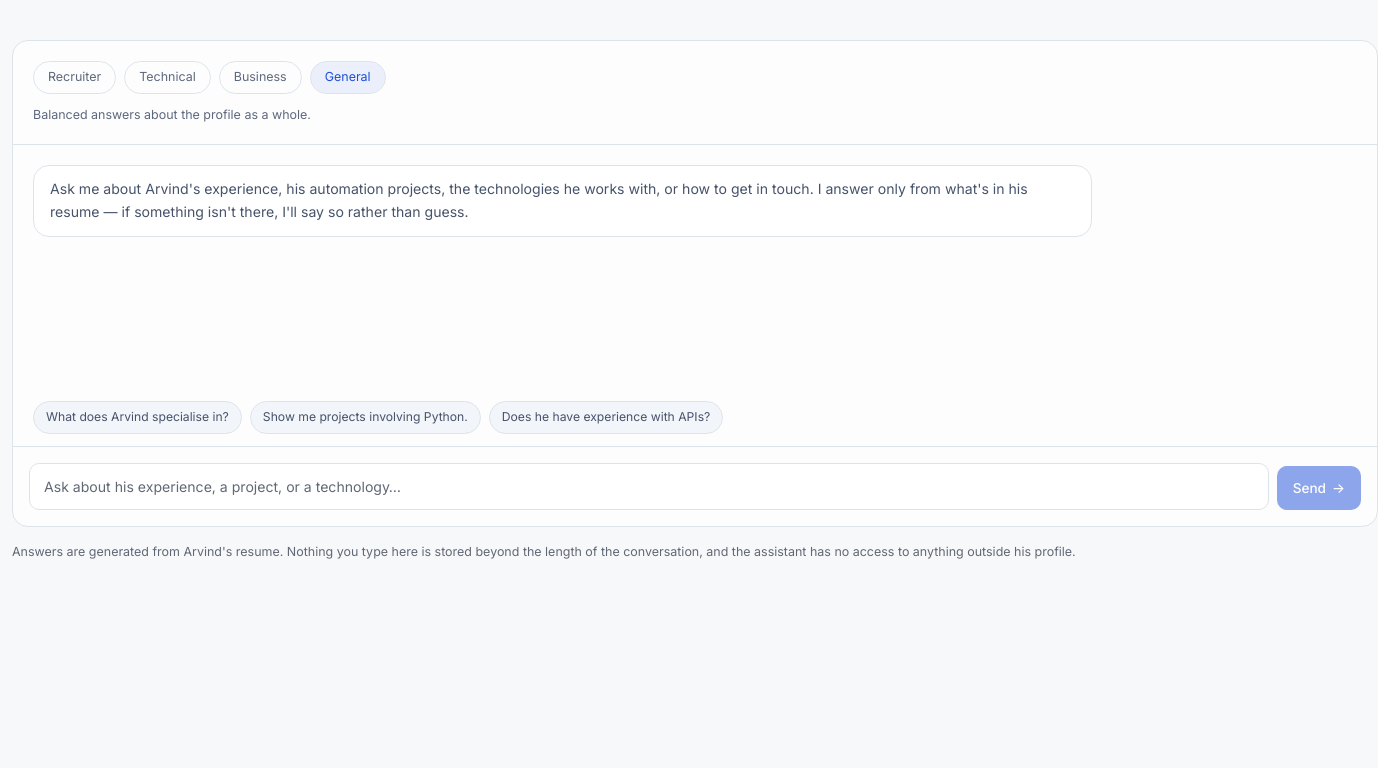
Assistant › sends a question and renders the grounded answer with its sources
Type "Which databases has he used?" into the text box with test id "assistant-input". click: (649, 486)
box: top-left (29, 463), bottom-right (1269, 510)
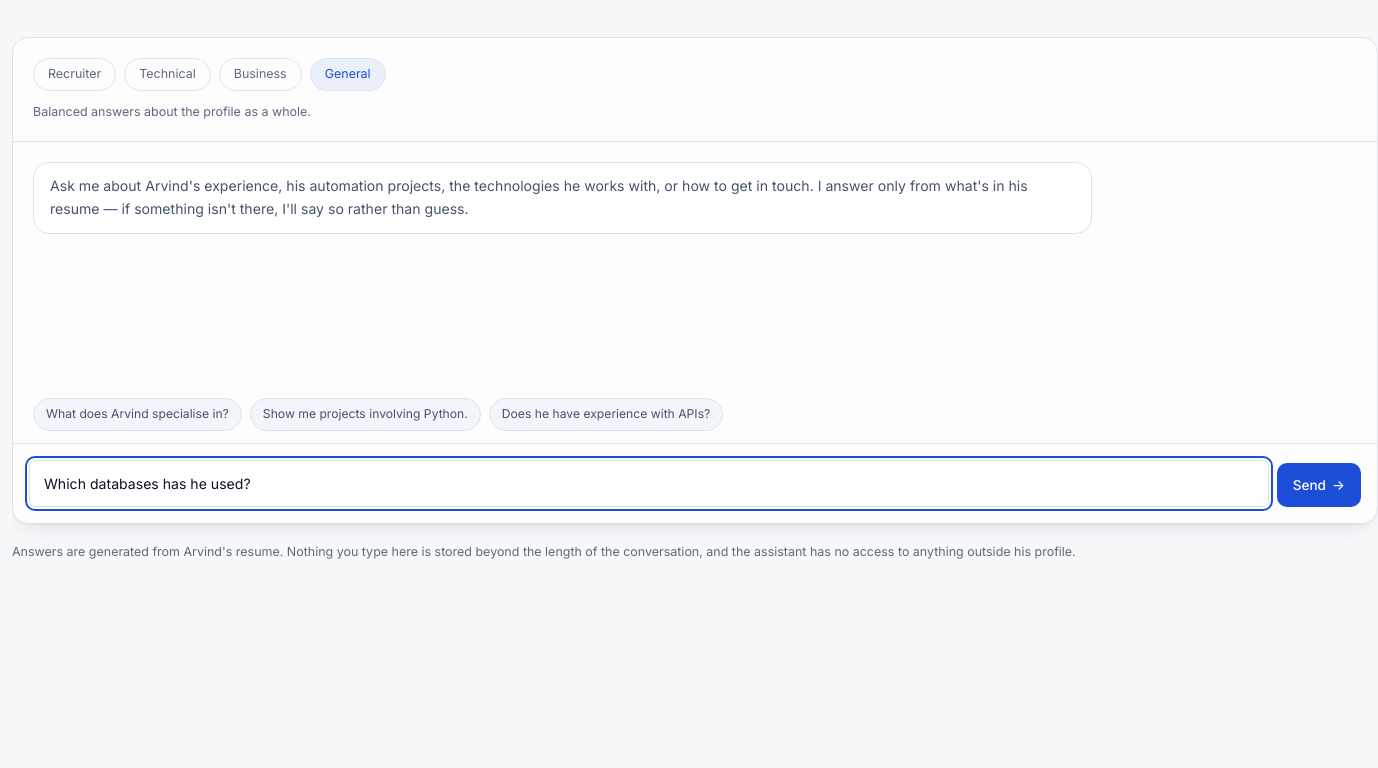
Click the button with test id "assistant-send". click: (1319, 485)
box: top-left (1277, 463), bottom-right (1361, 507)
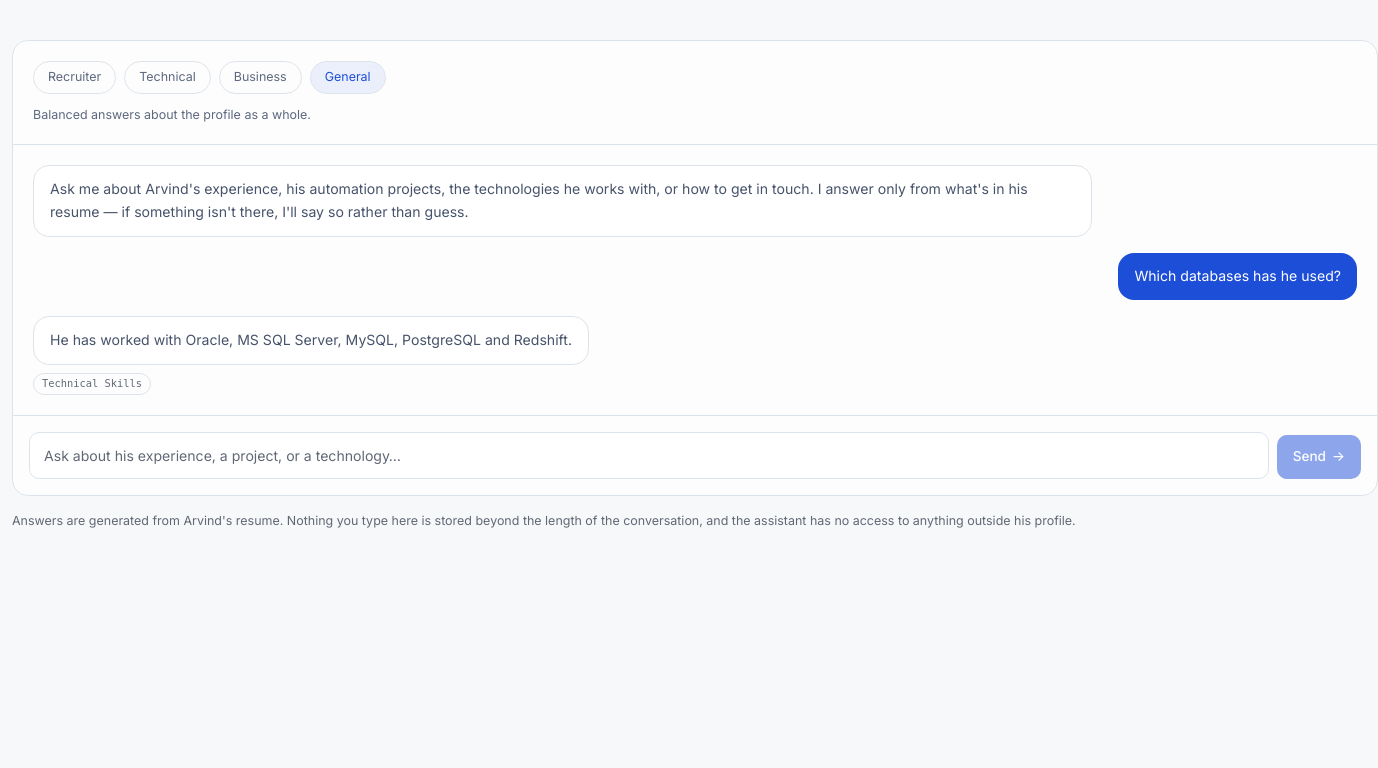
Result: the element with test id "assistant-transcript" shows "Oracle" at top-left (50, 331), bottom-right (572, 348)
Result: the element with test id "assistant-transcript" shows "Technical Skills" at top-left (42, 377), bottom-right (142, 389)
